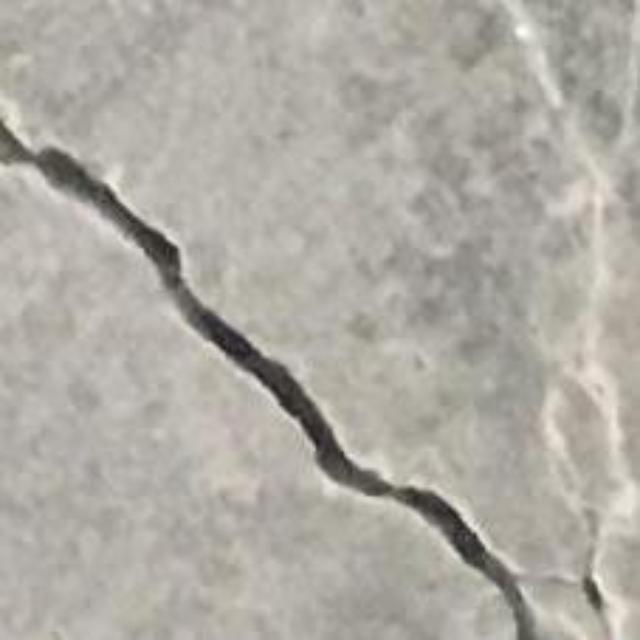crack: (0, 119, 538, 639)
